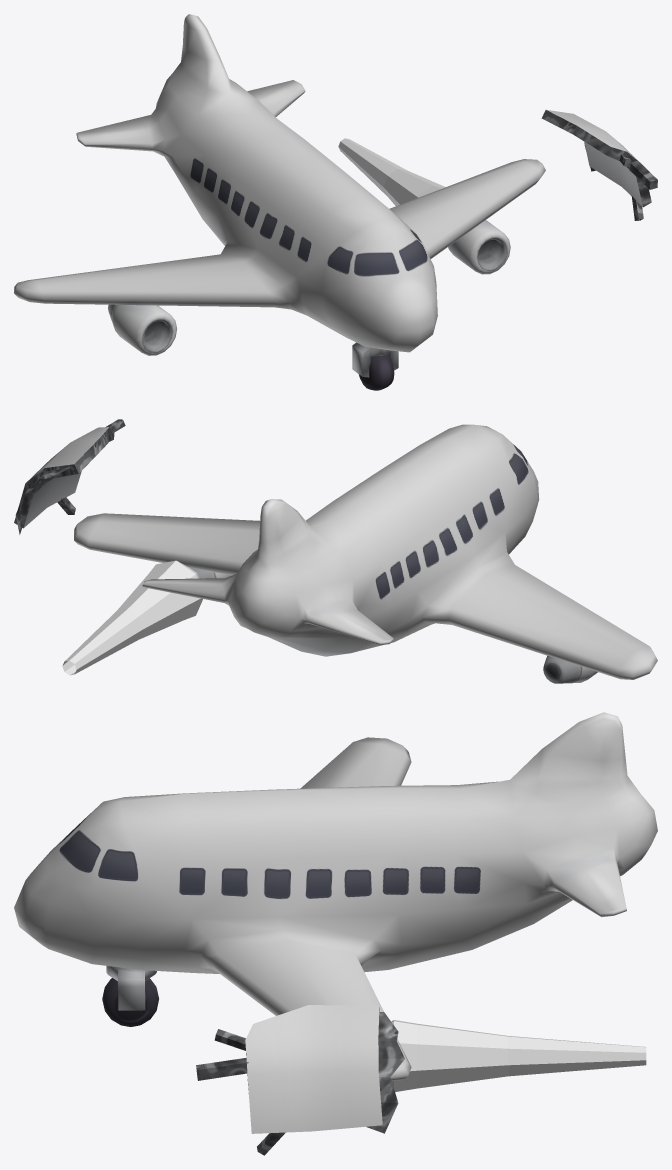
The model's file is airplane.fbx.
3 renders of one model, top to bottom at view 1: azimuth 30°, elevation 25°; view 2: azimuth 150°, elevation 25°; view 3: azimuth 270°, elevation 25°, orthographic. The views are drawn at different scales.
Parts seen in each view (by area): view 1: Airplane, Wing_R, Wing_L, Airplane_debri, Boost, wheel; view 2: Airplane, Wing_R, Wing_L, Boost, Airplane_debri; view 3: Airplane, Airplane_debri, Boost, Wing_L, Wing_R, wheel.
Part boxes in pixels (x1,y1,x2,y2): Airplane: (76, 14, 437, 352); Wing_R: (14, 254, 274, 355); Wing_L: (389, 159, 545, 274); Airplane_debri: (541, 109, 657, 220); Boost: (338, 138, 445, 205); wheel: (352, 342, 398, 390); Airplane: (142, 424, 539, 656); Wing_R: (449, 565, 657, 683); Wing_L: (74, 513, 259, 578); Boost: (62, 560, 202, 675); Airplane_debri: (14, 419, 125, 534); Airplane: (14, 712, 657, 973); Airplane_debri: (196, 1005, 404, 1155); Boost: (391, 1020, 646, 1091); Wing_L: (211, 940, 411, 1081); Wing_R: (300, 737, 411, 788); wheel: (102, 966, 158, 1026).
Bounding box in the file's own units: 589 × 230 × 430.
